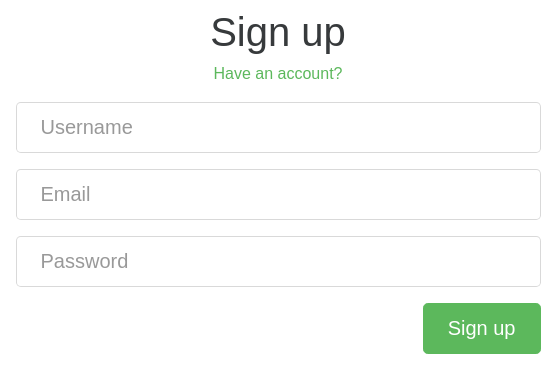
Test: Register page › shows success message if user created
The width and height of the screenshot is (558, 371).
Expected: the link with test id "rg-page-link-to-login" reads "Have an account?", x1=214 y1=65 x2=342 y2=82
Click the button with test id "rg-page-sign-up" at (482, 328), box x1=423 y1=303 x2=540 y2=354
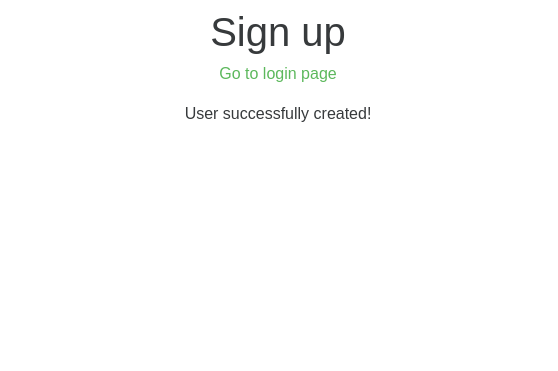
Expected: the text "User successfully created!" is shown, x1=185 y1=105 x2=371 y2=122
Expected: the link with test id "rg-page-link-to-login" reads "Go to login page", x1=219 y1=65 x2=337 y2=82
